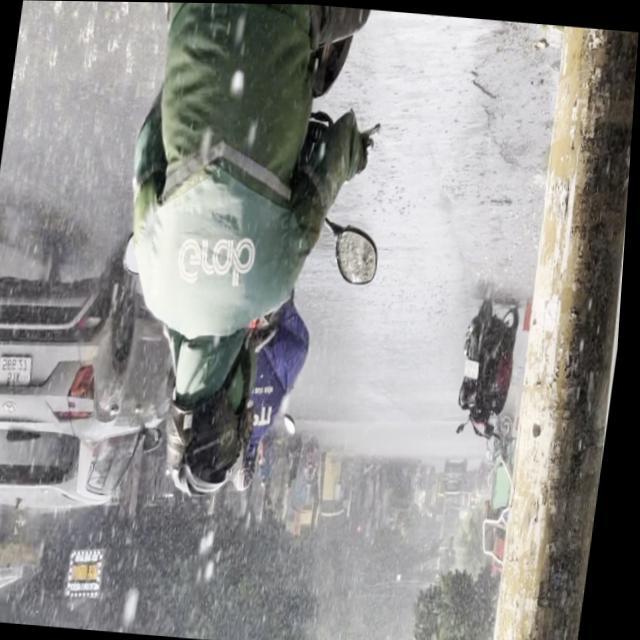helmet: (157, 311, 270, 499)
licenseplate: (78, 1, 400, 511)
